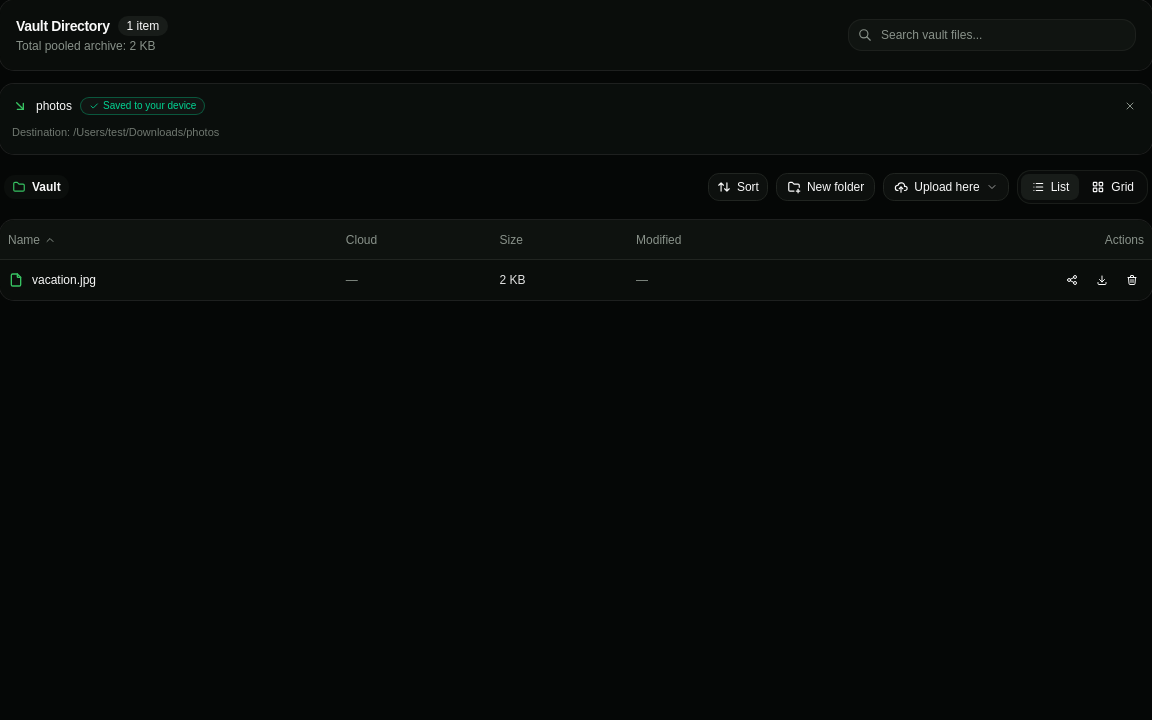
Scenario: VaultBrowserTable › opens share modal when clicking share button on file row
Click the button titled "Share link" at {"x": 1072, "y": 280}, box left=1060, top=268, right=1084, bottom=292
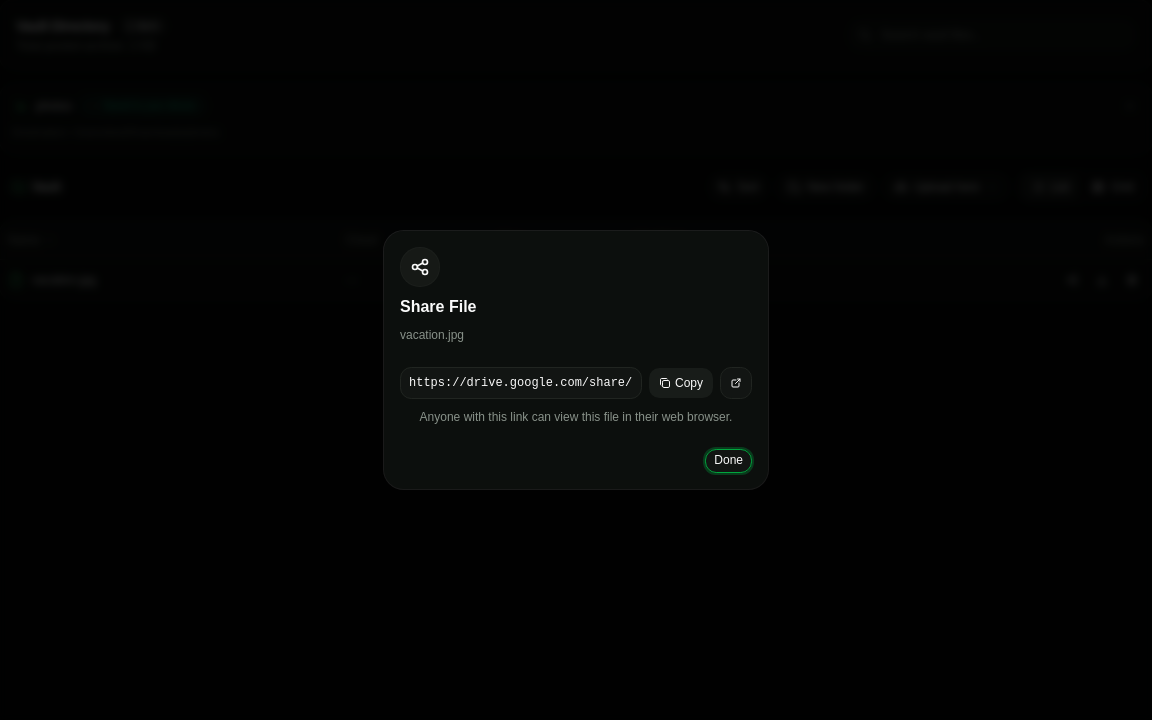
Expected: the dialog is shown, left=384, top=231, right=768, bottom=489
Expected: the heading "Share File" is shown, left=400, top=295, right=476, bottom=319
Expected: the text "vacation.jpg" is shown, left=400, top=327, right=464, bottom=343
